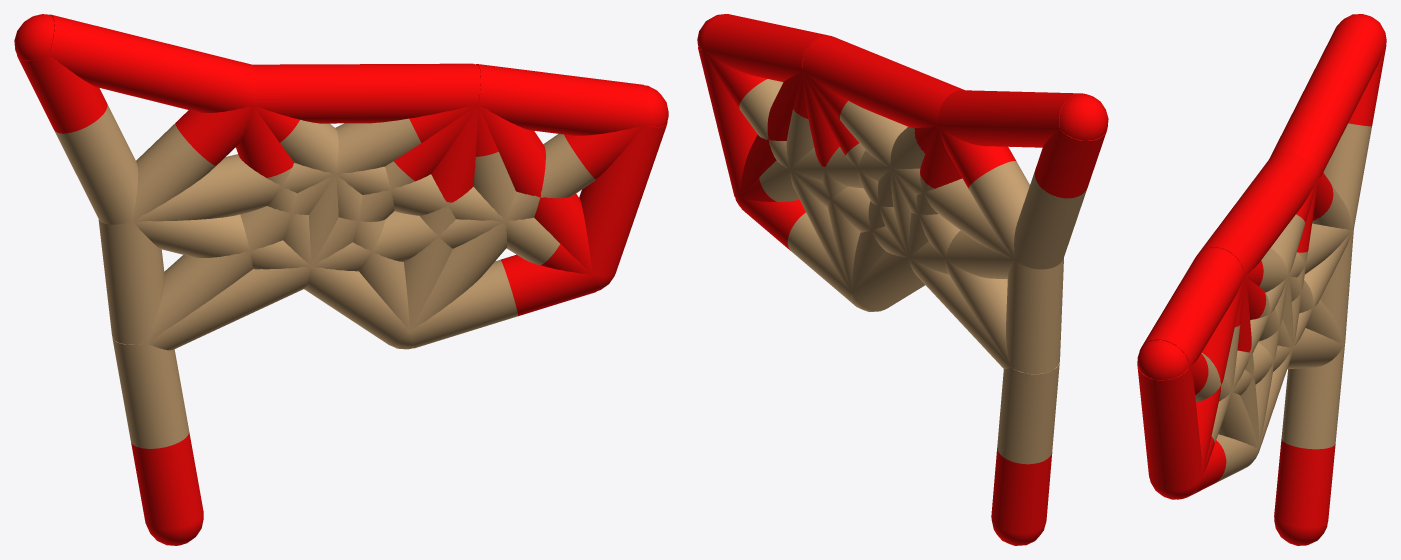
Rendered from GLU3D.fbx.
The picture shows the model from 3 angles, left to right: view 1: azimuth 30°, elevation 25°; view 2: azimuth 150°, elevation 25°; view 3: azimuth 270°, elevation 25°; orthographic projection. The views are drawn at different scales.
Visible parts, largest first — view 1: subnode_3; view 2: subnode_3; view 3: subnode_3.
Part boxes in pixels (x1,y1,x2,y2): subnode_3: (14, 14, 668, 545); subnode_3: (697, 14, 1108, 545); subnode_3: (1137, 14, 1386, 545).
Bounding box in the file's own units: 4.2 × 3.92 × 1.83.
